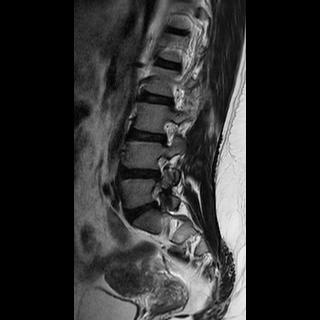RFS0: (155, 116, 180, 150)
